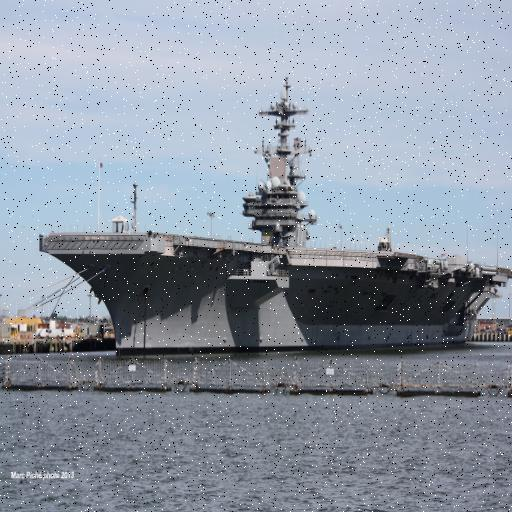Portanaves: (37, 73, 512, 362)
